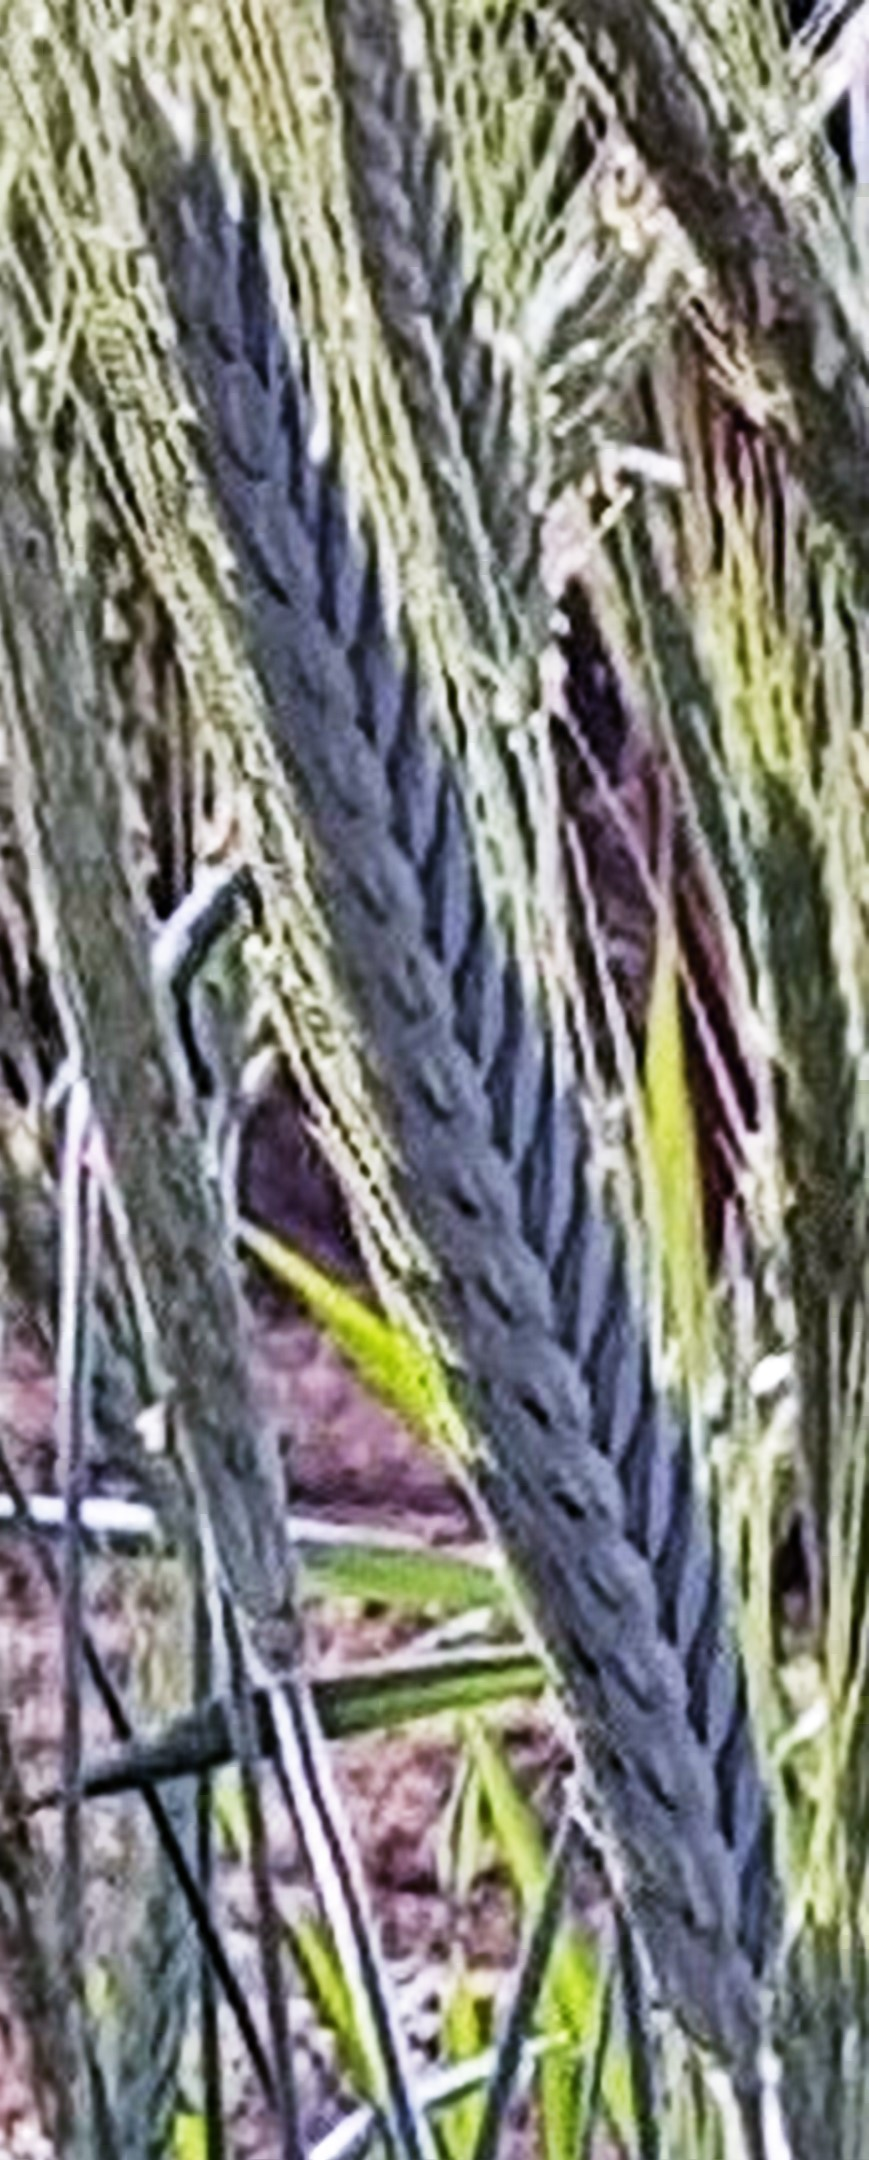Healthy Wheat: (140, 176, 863, 1969)
